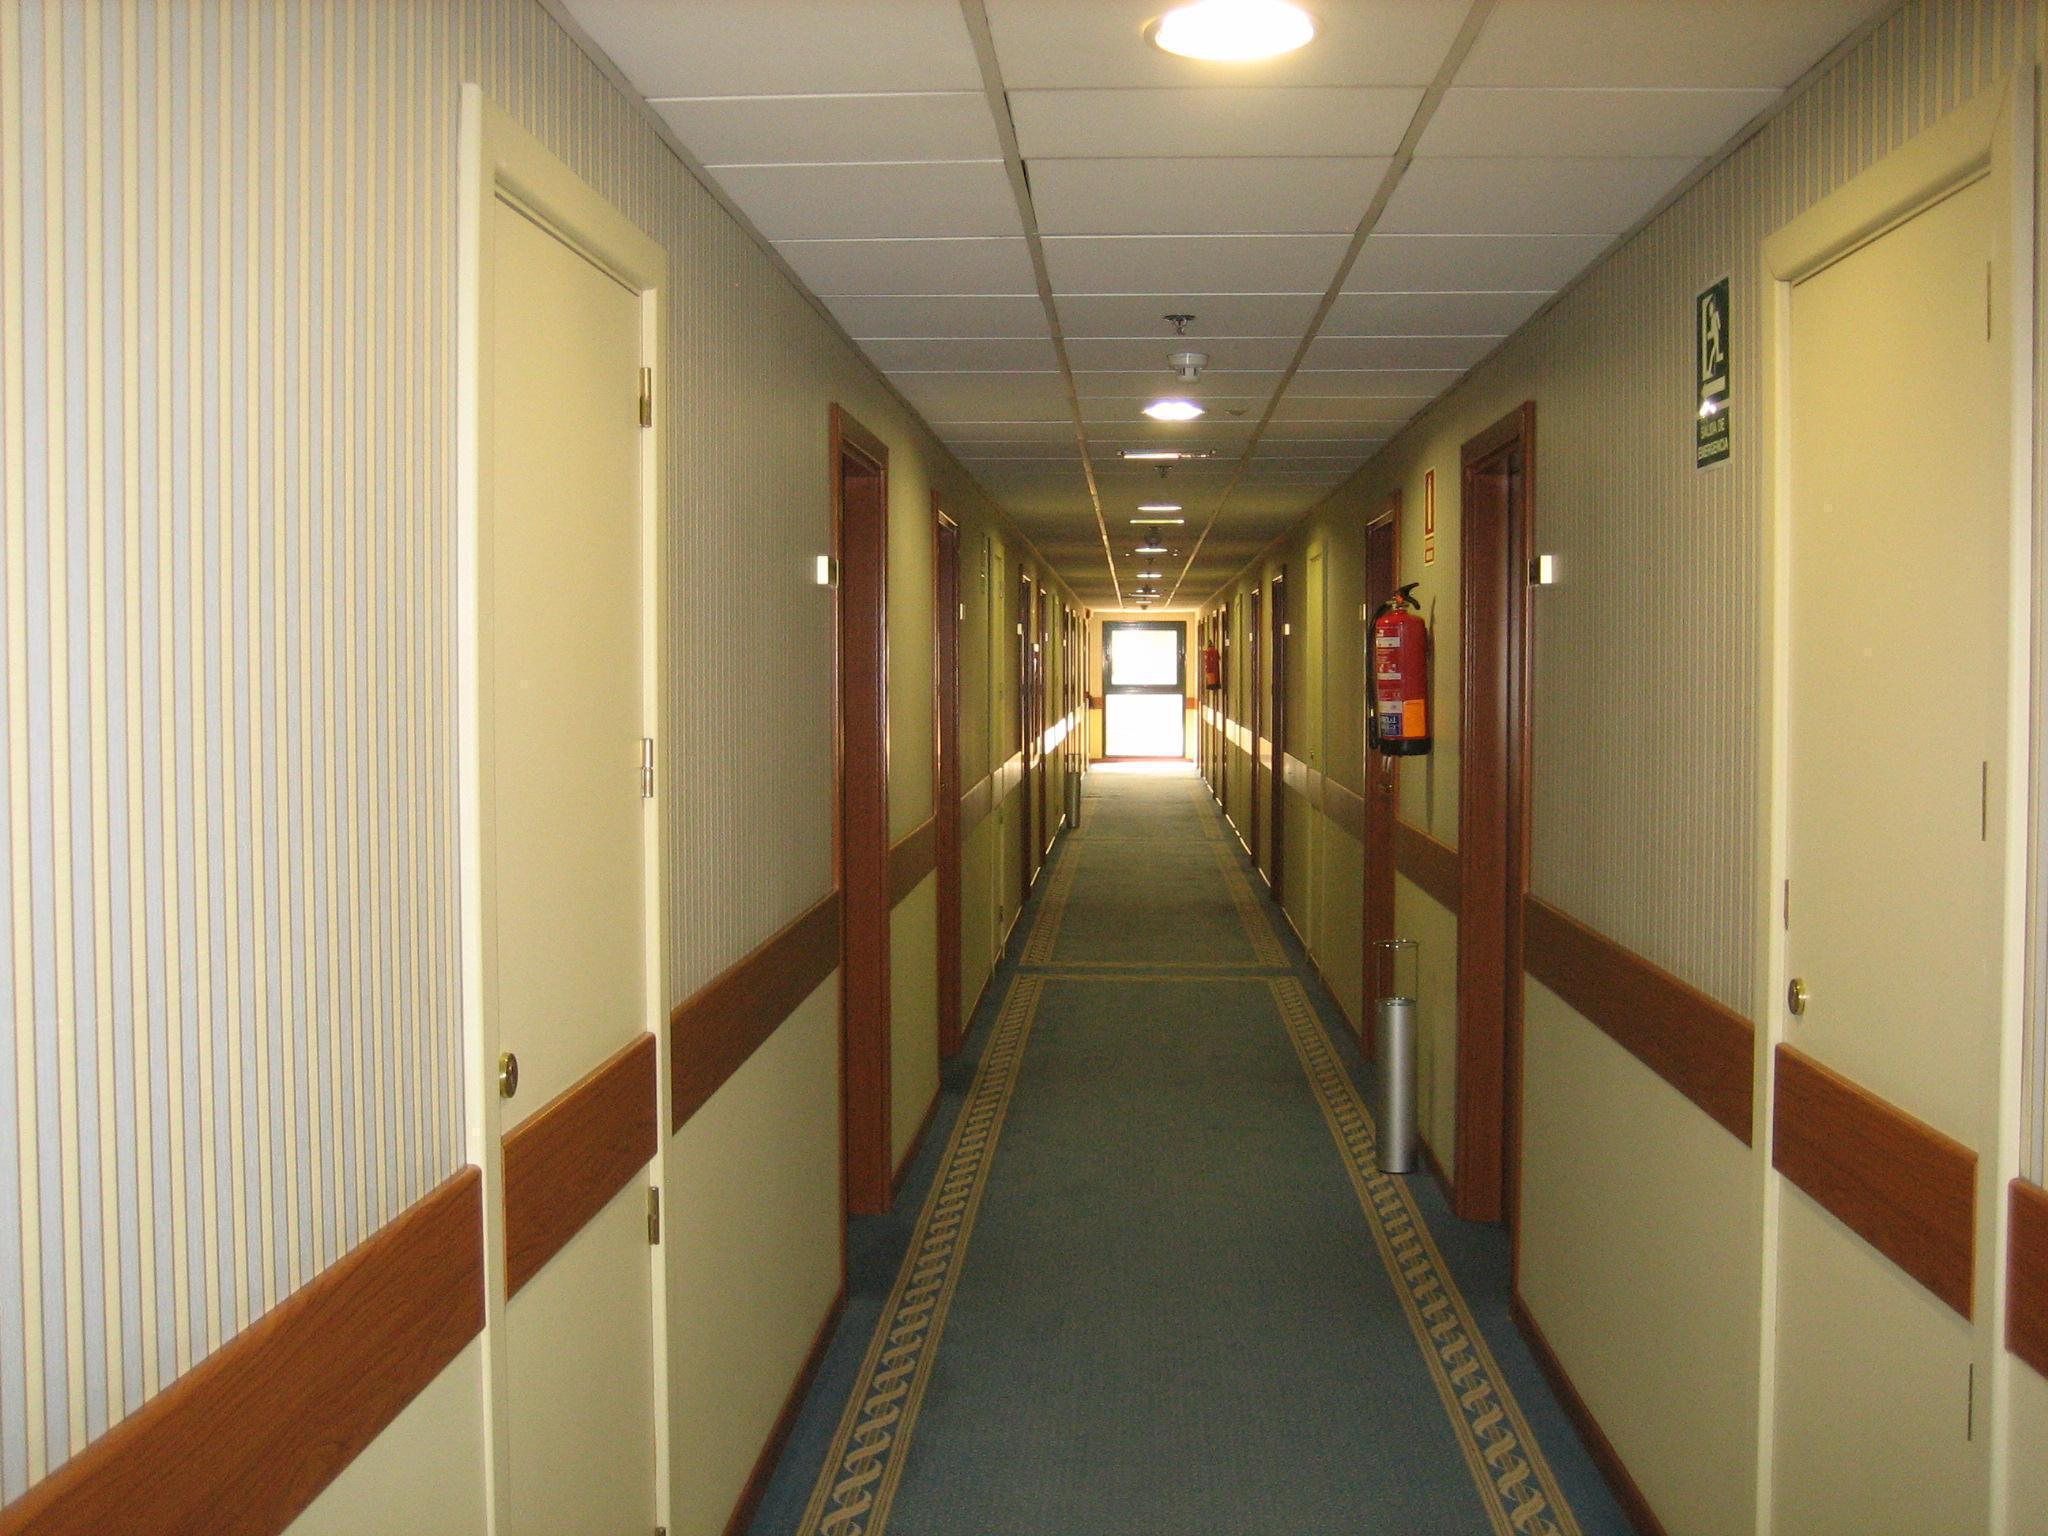Bote de Basura: (1367, 939, 1430, 1179)
Otro Obstaculo: (1364, 573, 1438, 778)
Puerta: (1771, 248, 1996, 1526), (474, 186, 660, 1526), (822, 432, 885, 1258), (1461, 452, 1514, 1229)
